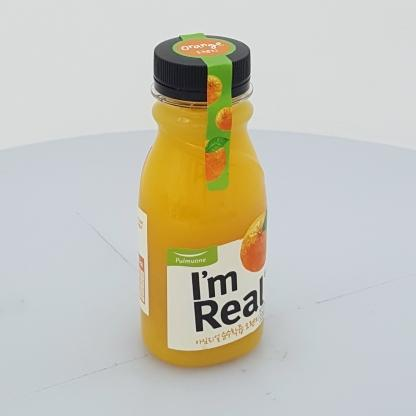-----------------190ML: (138, 33, 267, 366)
